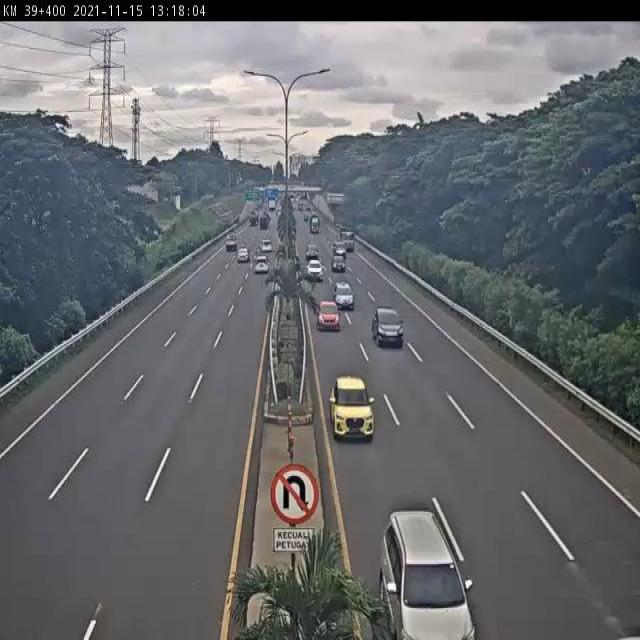car: (329, 378, 376, 442), (371, 306, 403, 346), (316, 300, 341, 333), (332, 280, 354, 308)
